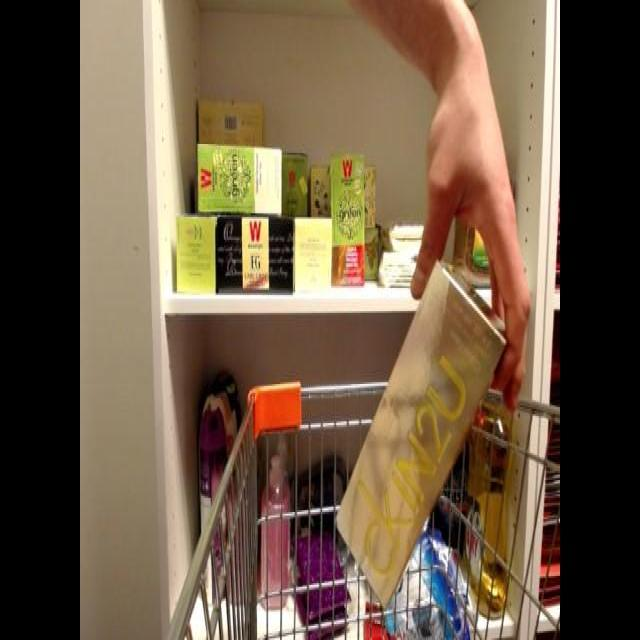Calvin Klein: (329, 260, 515, 609)
